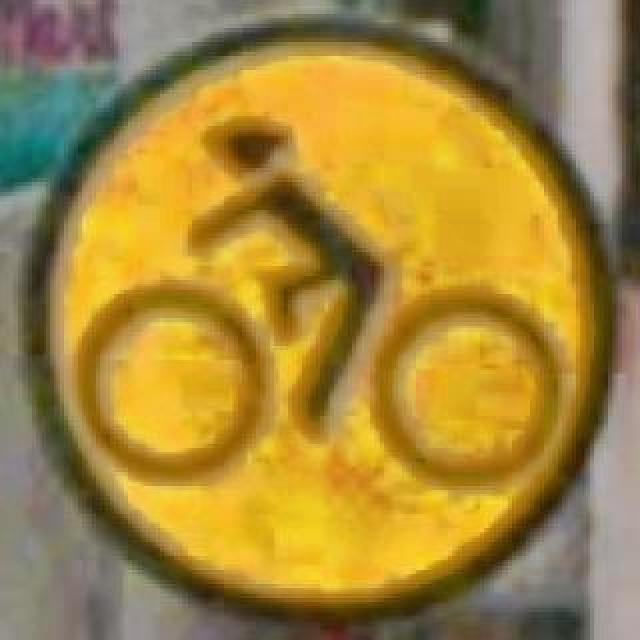bike lane: (18, 10, 614, 618)
